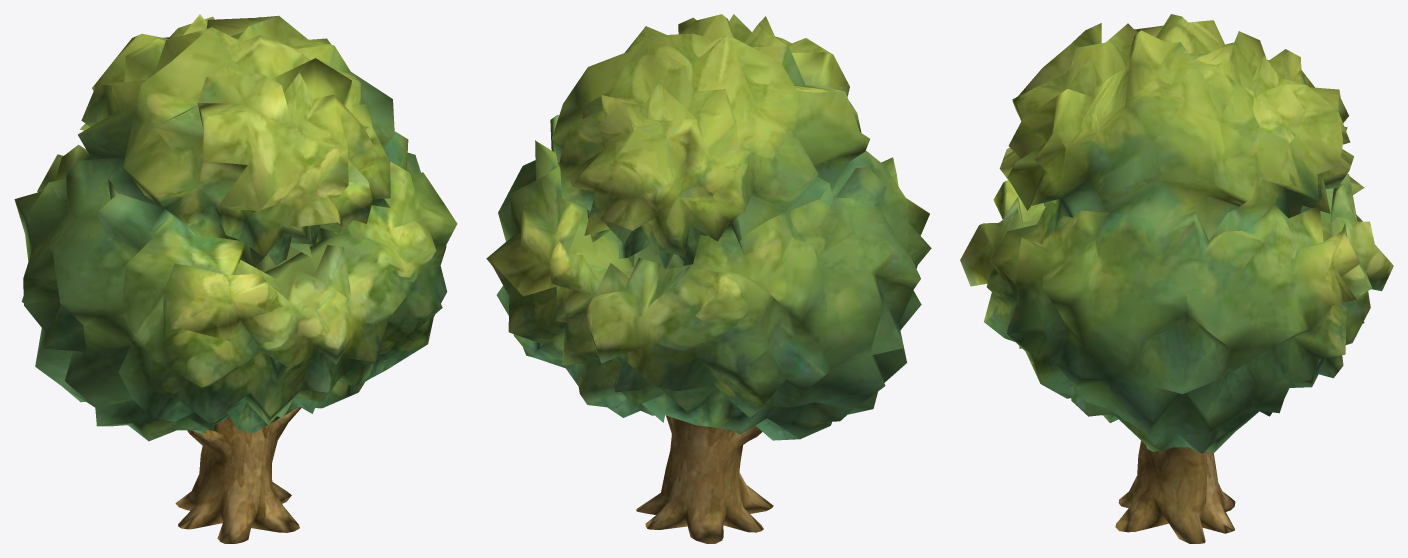
The model's file is tree.glb.
3 renders of one model, left to right at view 1: azimuth 30°, elevation 25°; view 2: azimuth 150°, elevation 25°; view 3: azimuth 270°, elevation 25°, orthographic.
Size of the model in its own units: 0.7876 by 0.9526 by 0.769.
1 material, 1 textured.
